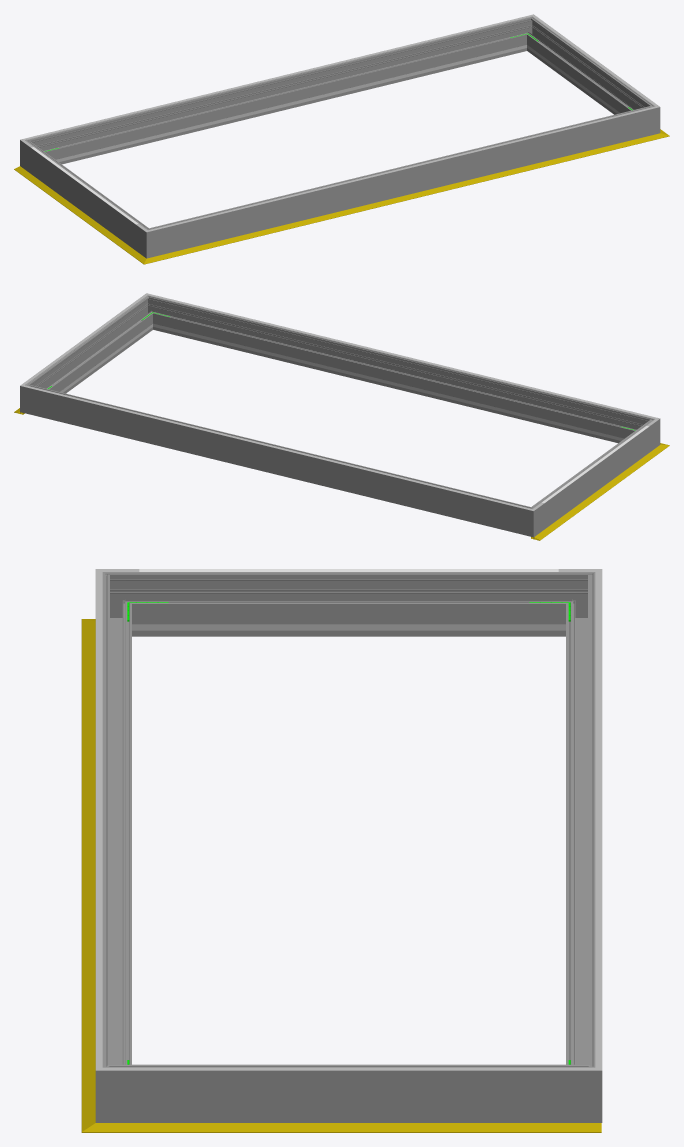
The picture shows the model from 3 angles, top to bottom: view 1: azimuth 30°, elevation 25°; view 2: azimuth 150°, elevation 25°; view 3: azimuth 270°, elevation 25°; orthographic projection. The views are drawn at different scales.
Parts seen in each view (by area): view 1: 3DGeom-278, 3DGeom-300, 3DGeom-299, 3DGeom-270, 3DGeom-28, 3DGeom-246, 3DGeom-306, 3DGeom-318, 3DGeom-38, 3DGeom-272, 3DGeom-292, 3DGeom-286 (+1 smaller); view 2: 3DGeom-300, 3DGeom-278, 3DGeom-299, 3DGeom-270, 3DGeom-241, 3DGeom-318, 3DGeom-306, 3DGeom-38, 3DGeom-280, 3DGeom-286, 3DGeom-292, 3DGeom-272 (+2 smaller); view 3: 3DGeom-270, 3DGeom-299, 3DGeom-300, 3DGeom-278, 3DGeom-28, 3DGeom-30, 3DGeom-306, 3DGeom-318, 3DGeom-292, 3DGeom-286, 3DGeom-234, 3DGeom-272 (+3 smaller).
Part boxes in pixels (x1,y1,x2,y2): 3DGeom-278: (40,20,523,164); 3DGeom-300: (162,109,641,253); 3DGeom-299: (529,23,646,114); 3DGeom-270: (30,146,141,250); 3DGeom-28: (159,136,650,259); 3DGeom-246: (62,49,508,160); 3DGeom-306: (39,19,516,136); 3DGeom-318: (164,110,640,227); 3DGeom-38: (14,166,138,256); 3DGeom-272: (135,223,165,258); 3DGeom-292: (638,100,660,137); 3DGeom-286: (516,16,541,51); 3DGeom-300: (156,299,639,443); 3DGeom-278: (38,388,518,532); 3DGeom-299: (34,302,151,393); 3DGeom-270: (538,425,649,528); 3DGeom-241: (171,328,617,439); 3DGeom-318: (164,298,640,415); 3DGeom-306: (39,389,515,506); 3DGeom-38: (531,450,658,540); 3DGeom-280: (515,502,544,537); 3DGeom-286: (20,379,41,416); 3DGeom-292: (138,295,163,330); 3DGeom-272: (632,415,660,452); 3DGeom-270: (139,572,558,636); 3DGeom-299: (139,1064,558,1122); 3DGeom-300: (95,587,131,1064); 3DGeom-278: (566,587,595,1064); 3DGeom-28: (81,634,95,1113); 3DGeom-30: (125,1123,601,1132); 3DGeom-306: (595,587,602,1052); 3DGeom-318: (96,587,102,1052); 3DGeom-292: (95,1052,138,1122); 3DGeom-286: (559,1052,602,1122); 3DGeom-234: (173,624,524,630); 3DGeom-272: (95,569,138,636).
Bounding box in the file's own units: 4.27 × 0.2195 × 1.83.
